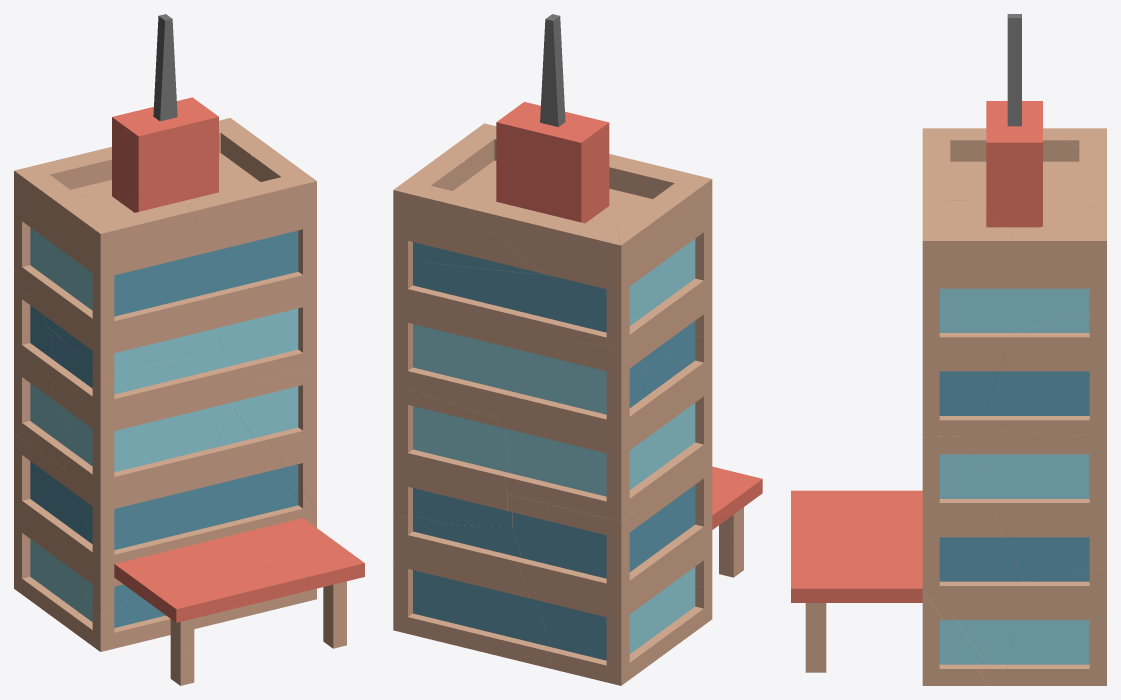
Rendered from BigHouse 2.1 Fractured.fbx.
The picture shows the model from 3 angles, left to right: view 1: azimuth 30°, elevation 25°; view 2: azimuth 150°, elevation 25°; view 3: azimuth 270°, elevation 25°; orthographic projection. The views are drawn at different scales.
Visible parts, largest first — view 1: BigHouse_Type2_1_Breaking_cell.003, BigHouse_Type2_1_Breaking_cell.011, BigHouse_Type2_1_Breaking_cell.002, BigHouse_Type2_1_Breaking_cell.014, BigHouse_Type2_1_Breaking_cell.005, BigHouse_Type2_1_Breaking_cell, BigHouse_Type2_1_Breaking_cell.010, BigHouse_Type2_1_Breaking_cell.007, BigHouse_Type2_1_Breaking_cell.004, BigHouse_Type2_1_Breaking_cell.001, BigHouse_Type2_1_Breaking_cell.012; view 2: BigHouse_Type2_1_Breaking_cell.010, BigHouse_Type2_1_Breaking_cell.003, BigHouse_Type2_1_Breaking_cell.004, BigHouse_Type2_1_Breaking_cell.009, BigHouse_Type2_1_Breaking_cell.005, BigHouse_Type2_1_Breaking_cell.008, BigHouse_Type2_1_Breaking_cell.006, BigHouse_Type2_1_Breaking_cell.012, BigHouse_Type2_1_Breaking_cell.011, BigHouse_Type2_1_Breaking_cell, BigHouse_Type2_1_Breaking_cell.001, BigHouse_Type2_1_Breaking_cell.002 (+1 smaller); view 3: BigHouse_Type2_1_Breaking_cell.002, BigHouse_Type2_1_Breaking_cell.007, BigHouse_Type2_1_Breaking_cell.006, BigHouse_Type2_1_Breaking_cell.014, BigHouse_Type2_1_Breaking_cell.005, BigHouse_Type2_1_Breaking_cell.009, BigHouse_Type2_1_Breaking_cell.012, BigHouse_Type2_1_Breaking_cell, BigHouse_Type2_1_Breaking_cell.008, BigHouse_Type2_1_Breaking_cell.003, BigHouse_Type2_1_Breaking_cell.013.
Boxes of the visible parts, x1,y1,x2,y2 form: BigHouse_Type2_1_Breaking_cell.003: (14, 170, 222, 379); BigHouse_Type2_1_Breaking_cell.011: (46, 328, 252, 551); BigHouse_Type2_1_Breaking_cell.002: (187, 151, 316, 384); BigHouse_Type2_1_Breaking_cell.014: (177, 410, 364, 648); BigHouse_Type2_1_Breaking_cell.005: (15, 14, 219, 208); BigHouse_Type2_1_Breaking_cell: (83, 516, 308, 650); BigHouse_Type2_1_Breaking_cell.010: (14, 433, 92, 627); BigHouse_Type2_1_Breaking_cell.007: (235, 365, 316, 509); BigHouse_Type2_1_Breaking_cell.004: (14, 269, 69, 469); BigHouse_Type2_1_Breaking_cell.001: (67, 598, 206, 685); BigHouse_Type2_1_Breaking_cell.012: (219, 118, 275, 183); BigHouse_Type2_1_Breaking_cell.010: (507, 483, 698, 685); BigHouse_Type2_1_Breaking_cell.003: (561, 155, 712, 370); BigHouse_Type2_1_Breaking_cell.004: (497, 340, 674, 521); BigHouse_Type2_1_Breaking_cell.009: (393, 260, 563, 417); BigHouse_Type2_1_Breaking_cell.005: (466, 14, 620, 283); BigHouse_Type2_1_Breaking_cell.008: (393, 524, 551, 668); BigHouse_Type2_1_Breaking_cell.006: (393, 384, 512, 527); BigHouse_Type2_1_Breaking_cell.012: (393, 155, 548, 275); BigHouse_Type2_1_Breaking_cell.011: (640, 332, 712, 533); BigHouse_Type2_1_Breaking_cell: (680, 466, 762, 596); BigHouse_Type2_1_Breaking_cell.001: (673, 533, 743, 644); BigHouse_Type2_1_Breaking_cell.002: (441, 123, 613, 191); BigHouse_Type2_1_Breaking_cell.002: (922, 177, 1011, 436); BigHouse_Type2_1_Breaking_cell.007: (922, 436, 1024, 685); BigHouse_Type2_1_Breaking_cell.006: (965, 428, 1106, 581); BigHouse_Type2_1_Breaking_cell.014: (791, 529, 988, 685); BigHouse_Type2_1_Breaking_cell.005: (937, 14, 1106, 229); BigHouse_Type2_1_Breaking_cell.009: (980, 311, 1106, 437); BigHouse_Type2_1_Breaking_cell.012: (1010, 204, 1106, 339); BigHouse_Type2_1_Breaking_cell: (791, 490, 922, 558); BigHouse_Type2_1_Breaking_cell.008: (1003, 618, 1106, 685); BigHouse_Type2_1_Breaking_cell.003: (922, 128, 1106, 200); BigHouse_Type2_1_Breaking_cell.013: (1020, 568, 1106, 618).
Size of the model in its own units: 572 by 1456 by 679.
